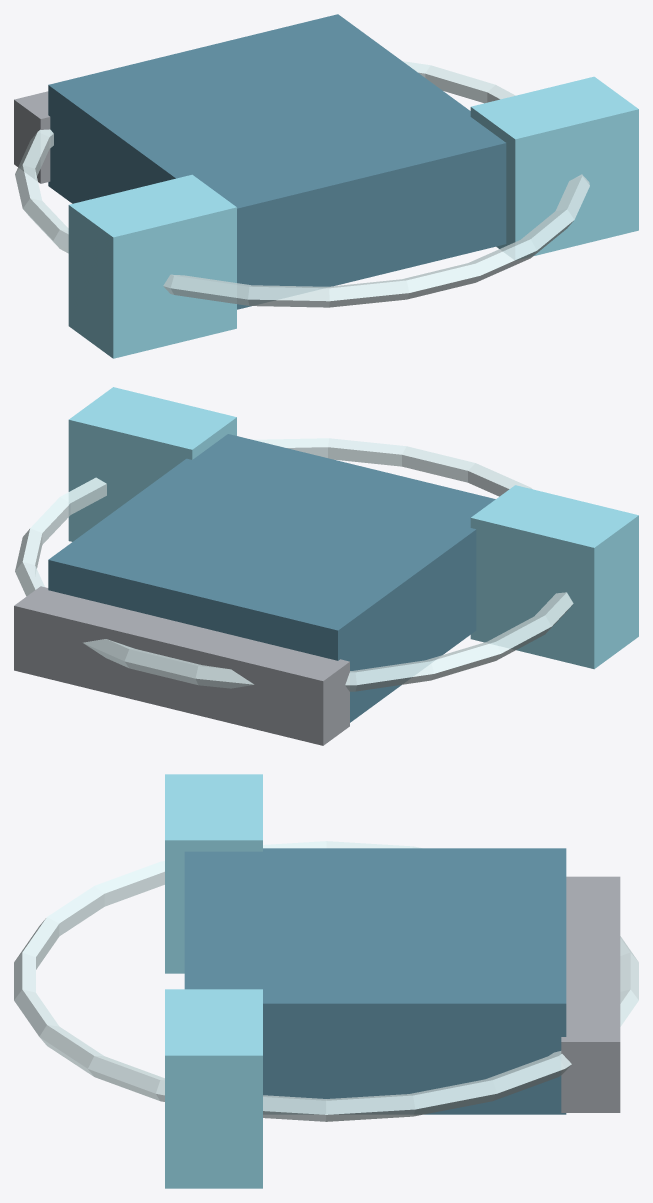
The model's file is 04_magic_armor_upgrade.glb.
3 views of the same model, one above another, from view 1: azimuth 30°, elevation 25°; view 2: azimuth 150°, elevation 25°; view 3: azimuth 270°, elevation 25° (orthographic). The views are drawn at different scales.
Parts seen in each view (by area): view 1: chest_plate, pauldron_l, pauldron_r, warding_aura, waist_guard; view 2: chest_plate, waist_guard, pauldron_l, warding_aura, pauldron_r; view 3: chest_plate, pauldron_r, warding_aura, waist_guard, pauldron_l.
Boxes of the visible parts, box(x1,y1,x2,y2) form: chest_plate: box(48, 14, 506, 309); pauldron_l: box(68, 174, 236, 358); pauldron_r: box(470, 76, 638, 259); warding_aura: box(15, 61, 589, 307); waist_guard: box(14, 91, 50, 183); chest_plate: box(48, 434, 495, 722); waist_guard: box(14, 586, 349, 745); pauldron_l: box(470, 485, 638, 669); warding_aura: box(15, 438, 573, 691); pauldron_r: box(68, 387, 236, 541); chest_plate: box(184, 848, 566, 1114); pauldron_r: box(165, 989, 262, 1188); warding_aura: box(14, 841, 638, 1121); waist_guard: box(561, 876, 620, 1112); pauldron_l: box(165, 774, 262, 973).
Size of the model in its own units: 1.36 by 0.38 by 1.28.
